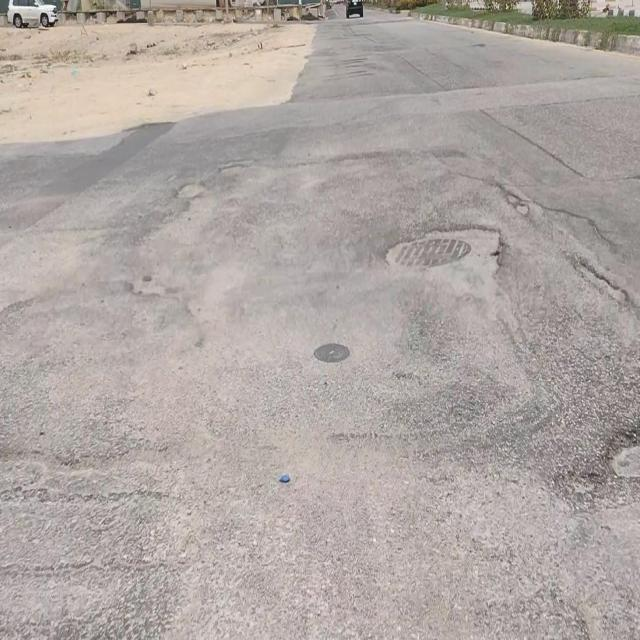Potholes: (383, 224, 503, 275), (601, 424, 640, 481)
